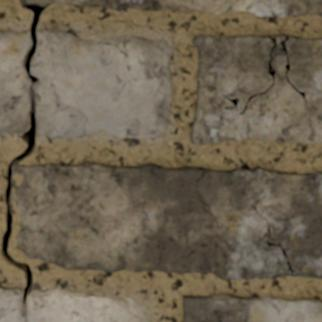brick: (12, 162, 321, 278), (191, 35, 321, 144), (21, 0, 321, 16), (183, 294, 321, 321), (273, 35, 284, 43)
broken_brick: (32, 28, 171, 139), (0, 286, 150, 321), (0, 29, 29, 133)
crack: (0, 2, 47, 319), (224, 33, 309, 115), (251, 204, 296, 276), (101, 127, 105, 131)
